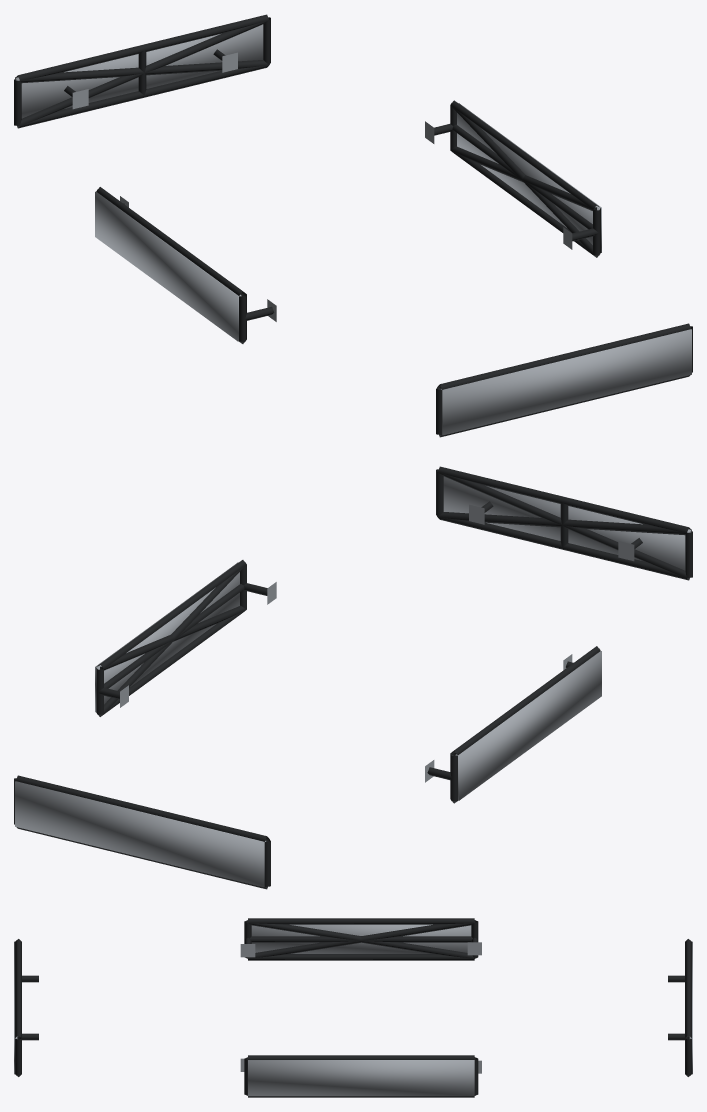
Rendered from ridgeway_atlas_protecao.glb.
3 views of the same model, one above another, from view 1: azimuth 30°, elevation 25°; view 2: azimuth 150°, elevation 25°; view 3: azimuth 270°, elevation 25° (orthographic). The views are drawn at different scales.
Parts seen in each view (by area): view 1: Protection_front_Level3_Details, Protection_left_Level3_Details, Protection_rear_Level3_Details, Protection_rear_Level1_Details, Protection_rear_Level2_Details, Protection_right_Level1_Details, Protection_right_Level2_Details, Protection_right_Level3_Details, Protection_front_Level1_Details, Protection_left_Level1_Details; view 2: Protection_rear_Level3_Details, Protection_left_Level3_Details, Protection_front_Level3_Details, Protection_front_Level1_Details, Protection_front_Level2_Details, Protection_right_Level1_Details, Protection_right_Level2_Details, Protection_right_Level3_Details, Protection_rear_Level1_Details, Protection_left_Level1_Details; view 3: Protection_right_Level3_Details, Protection_left_Level2_Details, Protection_left_Level1_Details, Protection_left_Level3_Details, Protection_right_Level1_Details, Protection_rear_Level1_Details, Protection_front_Level1_Details.
Part boxes in pixels (left/top/right/bottom): Protection_front_Level3_Details: left=440, top=329, right=691, bottom=435; Protection_left_Level3_Details: left=95, top=191, right=241, bottom=341; Protection_rear_Level3_Details: left=15, top=24, right=263, bottom=118; Protection_rear_Level1_Details: left=14, top=14, right=270, bottom=128; Protection_rear_Level2_Details: left=16, top=20, right=268, bottom=127; Protection_right_Level1_Details: left=425, top=100, right=600, bottom=257; Protection_right_Level2_Details: left=450, top=105, right=599, bottom=257; Protection_right_Level3_Details: left=457, top=103, right=601, bottom=252; Protection_front_Level1_Details: left=436, top=323, right=692, bottom=437; Protection_left_Level1_Details: left=96, top=187, right=276, bottom=343; Protection_rear_Level3_Details: left=15, top=781, right=266, bottom=887; Protection_left_Level3_Details: left=455, top=651, right=601, bottom=800; Protection_front_Level3_Details: left=443, top=476, right=691, bottom=570; Protection_front_Level1_Details: left=436, top=466, right=692, bottom=580; Protection_front_Level2_Details: left=438, top=472, right=690, bottom=579; Protection_right_Level1_Details: left=96, top=560, right=276, bottom=716; Protection_right_Level2_Details: left=97, top=565, right=246, bottom=716; Protection_right_Level3_Details: left=95, top=562, right=239, bottom=712; Protection_rear_Level1_Details: left=14, top=775, right=270, bottom=889; Protection_left_Level1_Details: left=425, top=646, right=600, bottom=803; Protection_right_Level3_Details: left=248, top=1060, right=474, bottom=1096; Protection_left_Level2_Details: left=247, top=920, right=474, bottom=958; Protection_left_Level1_Details: left=240, top=918, right=481, bottom=960; Protection_left_Level3_Details: left=251, top=924, right=471, bottom=953; Protection_right_Level1_Details: left=240, top=1055, right=481, bottom=1097; Protection_rear_Level1_Details: left=668, top=939, right=691, bottom=1076; Protection_front_Level1_Details: left=15, top=939, right=38, bottom=1076.
Size of the model in its own units: 2.53 by 0.354 by 5.15.
1 material, 1 textured.
